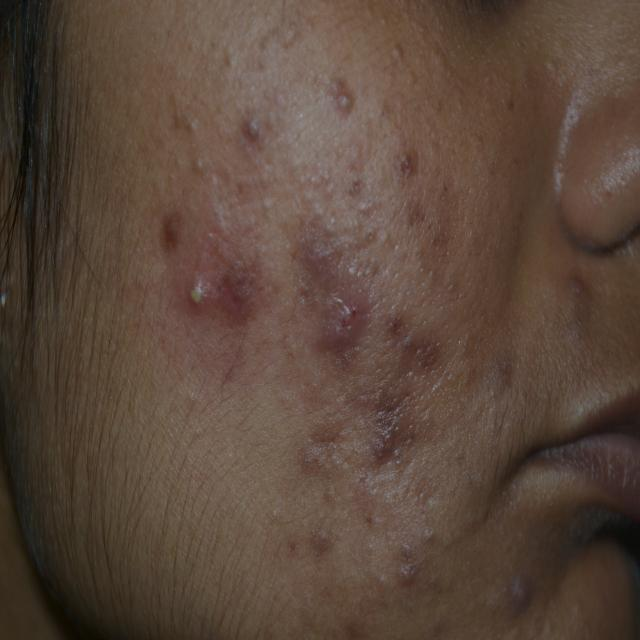Acne: (140, 100, 438, 470)
Oily-Skin: (85, 71, 631, 630)
